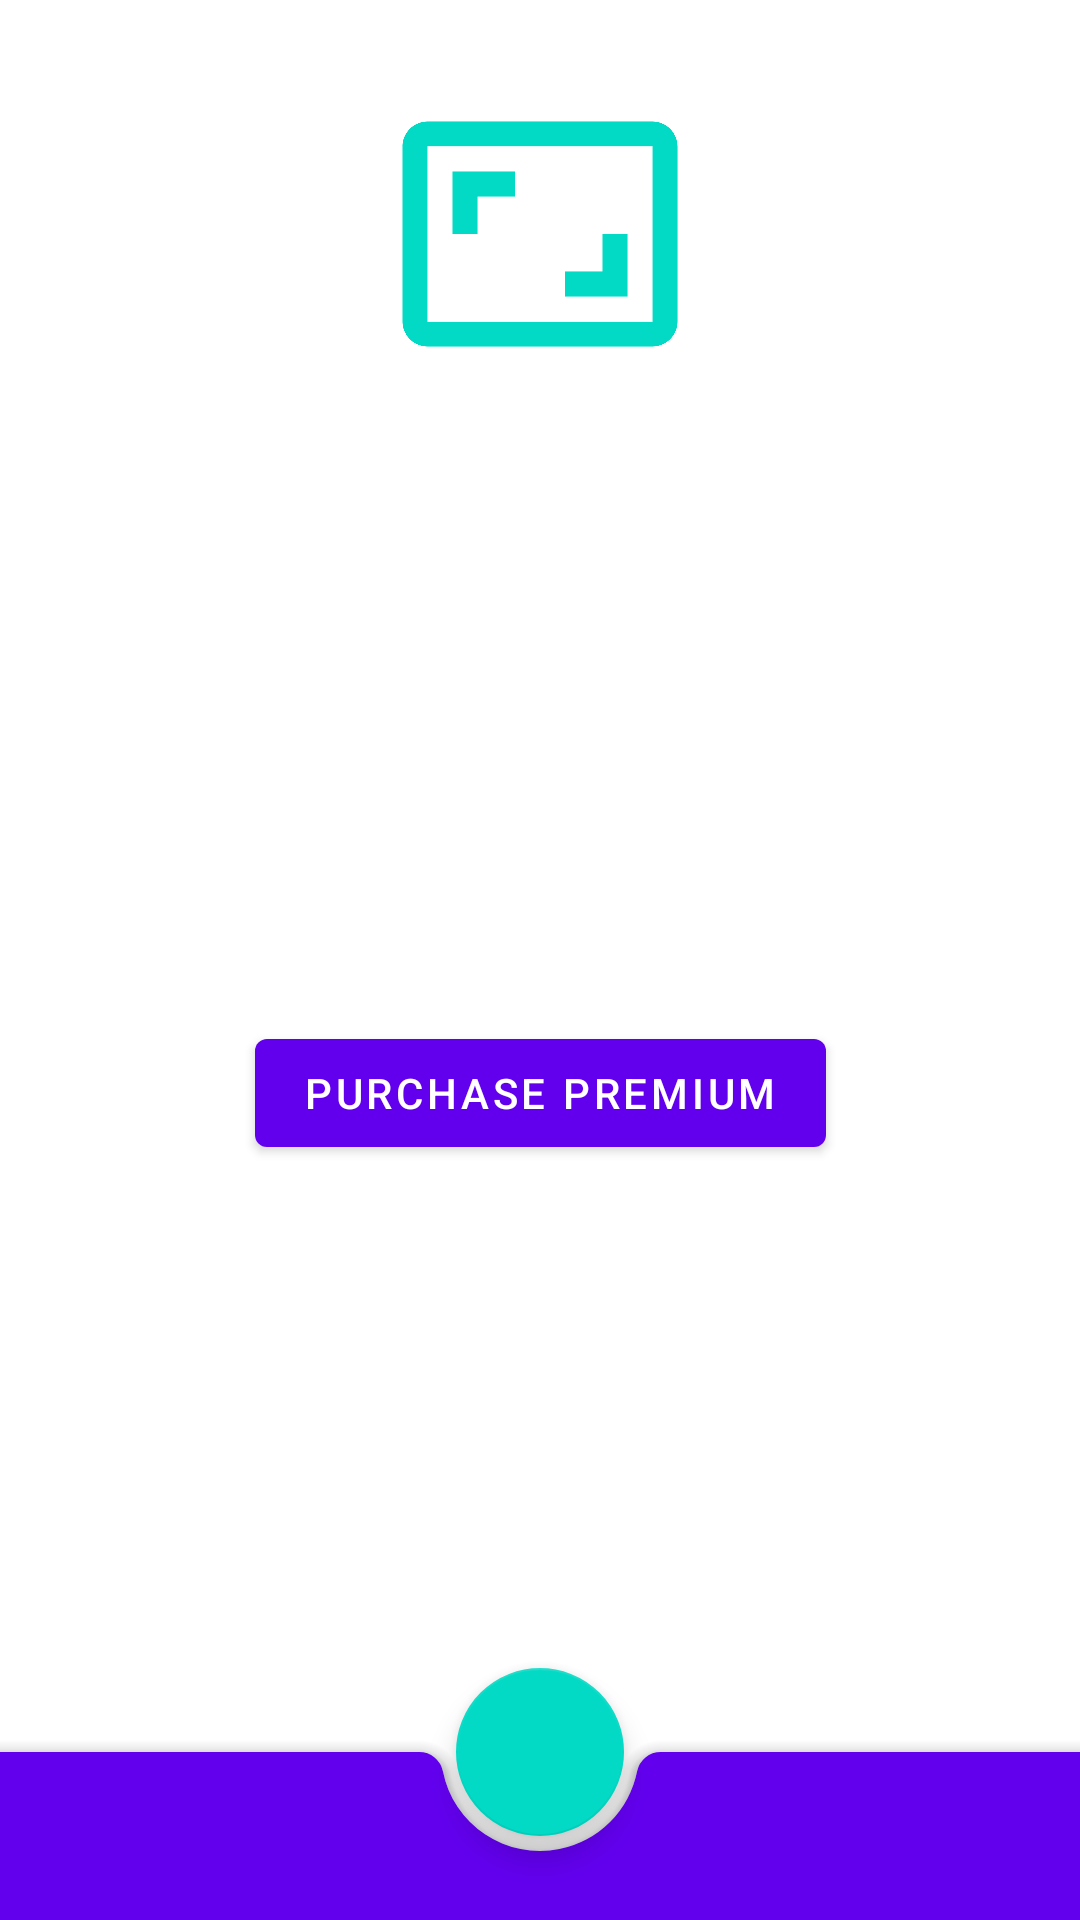

Where icons sit on this 1080 x 1920 app screen, as [x1, y1, x2, y2]:
aspect ratio themed: [402, 121, 678, 347]
